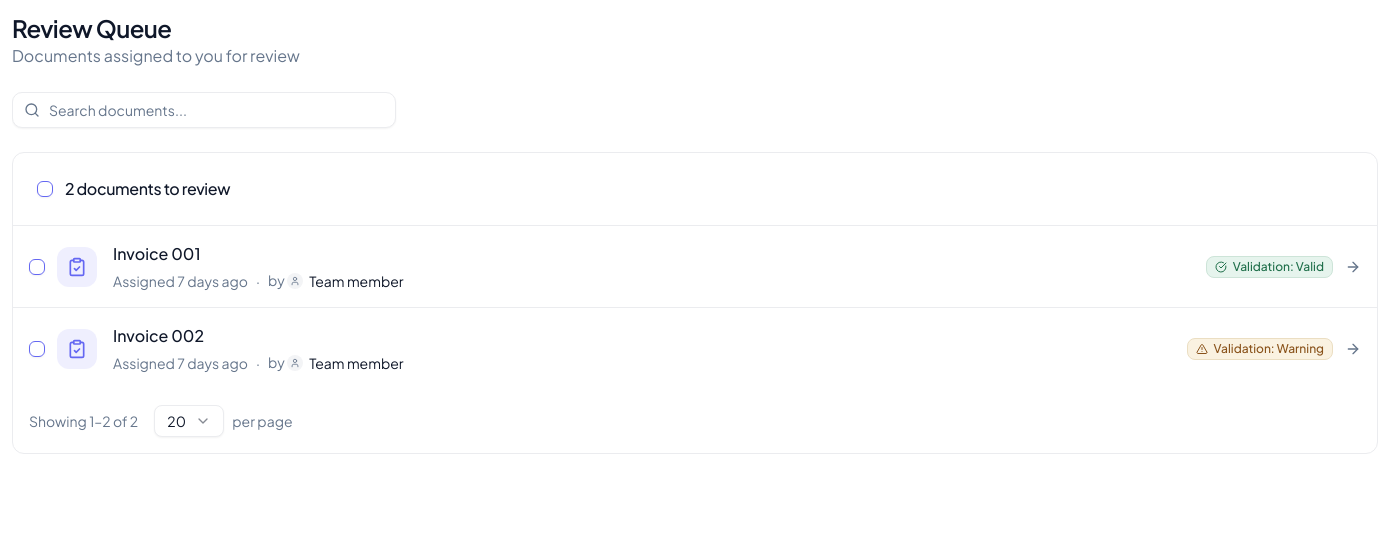
ReviewQueuePage › select-all toggles all documents
The image size is (1378, 549).
Click the checkbox named "Select all documents" at (45, 189), box [37,181,53,197]
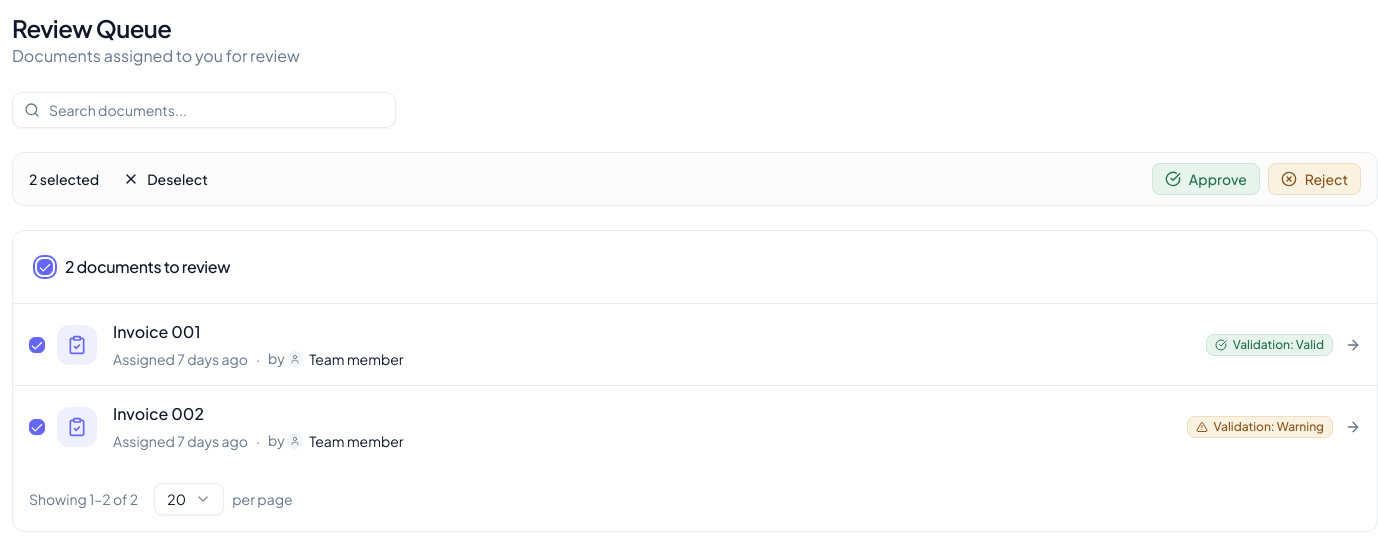
Check: the text "2 selected" is shown, box [29,169,99,189]
Click again to deselect all
Click the checkbox named "Select all documents" at (45, 267), box [37,259,53,275]
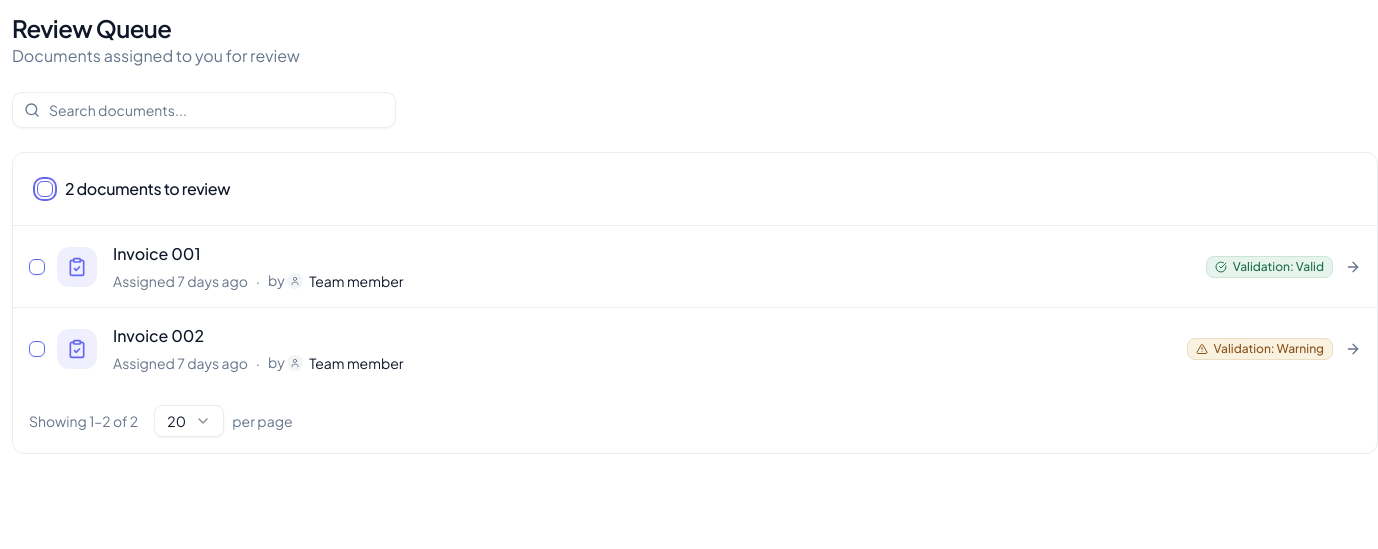
Check: the text "2 selected" is gone
